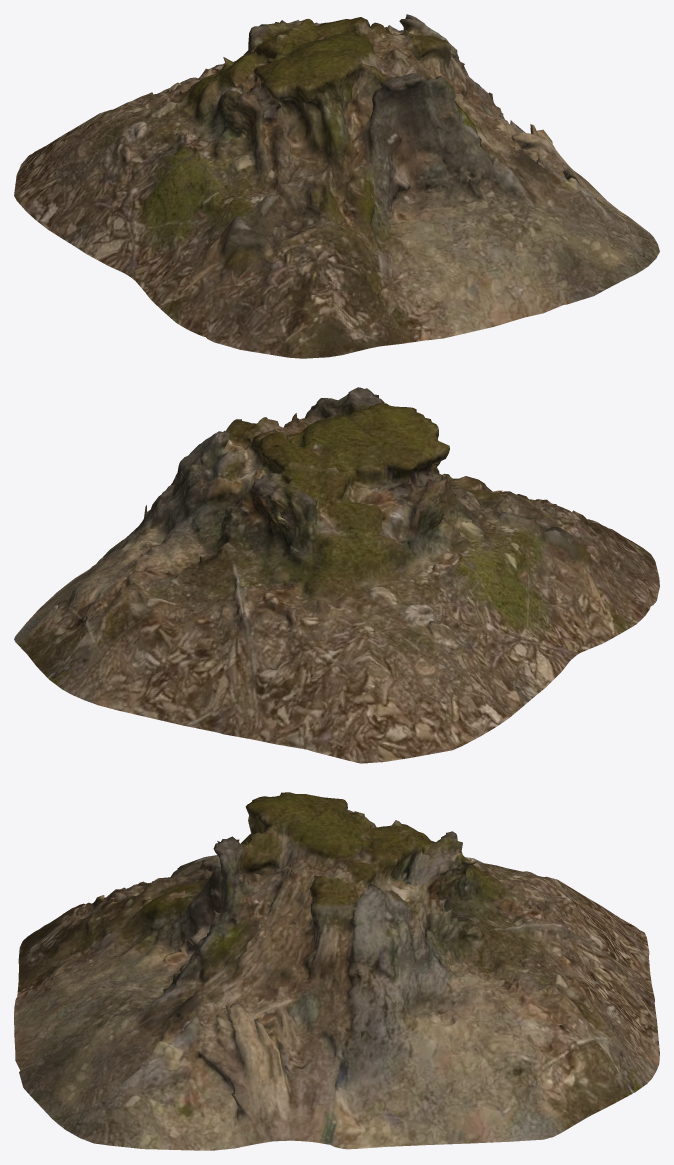
File: tree_stump_01.glb
3 views of the same model, one above another, from view 1: azimuth 30°, elevation 25°; view 2: azimuth 150°, elevation 25°; view 3: azimuth 270°, elevation 25° (orthographic). The views are drawn at different scales.
Visible parts, largest first — view 1: tree_stump_01; view 2: tree_stump_01; view 3: tree_stump_01.
Boxes of the visible parts, x1,y1,x2,y2 form: tree_stump_01: [14, 14, 659, 358]; tree_stump_01: [14, 387, 659, 763]; tree_stump_01: [14, 792, 659, 1150].
Size of the model in its own units: 1.43 by 0.5725 by 1.59.
1 material, 1 textured.
